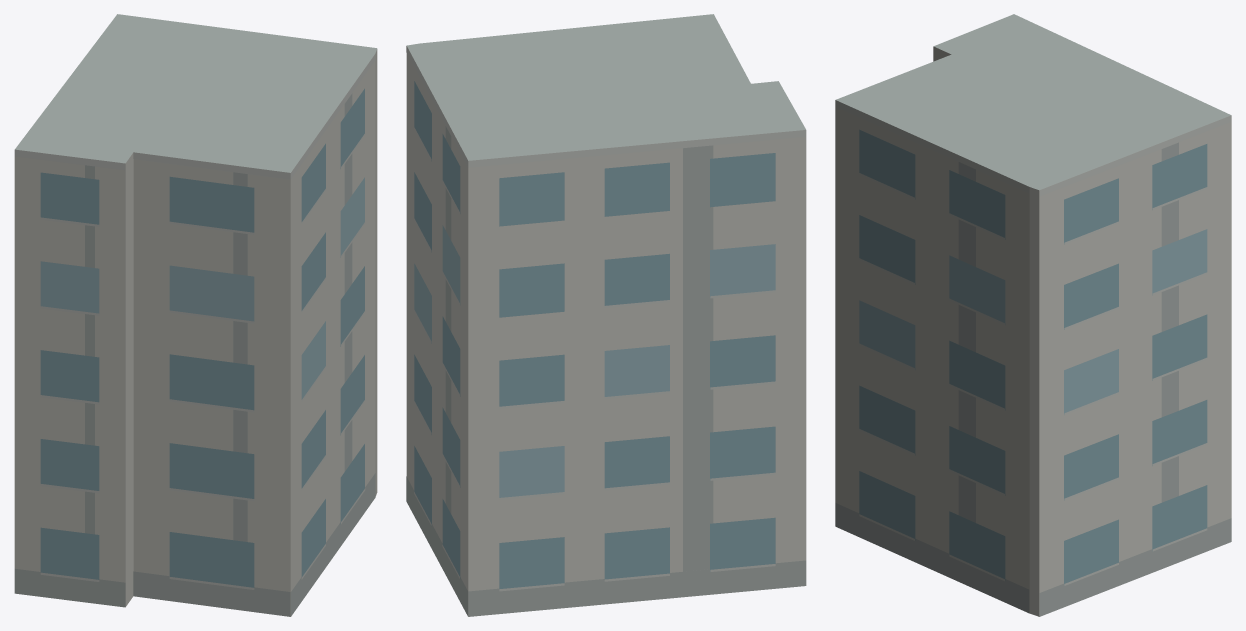
Rendered from survey-upis-32591709.glb.
3 renders of one model, left to right at view 1: azimuth 30°, elevation 25°; view 2: azimuth 150°, elevation 25°; view 3: azimuth 270°, elevation 25°, orthographic. The views are drawn at different scales.
Visible parts, largest first — view 1: survey-upis-32591709.tmp; view 2: survey-upis-32591709.tmp; view 3: survey-upis-32591709.tmp.
Boxes of the visible parts, x1=… form: survey-upis-32591709.tmp: x1=14, y1=14, x2=377, y2=616; survey-upis-32591709.tmp: x1=406, y1=14, x2=806, y2=616; survey-upis-32591709.tmp: x1=835, y1=14, x2=1231, y2=616.
Size of the model in its own units: 14.01 by 15.8 by 13.31.
